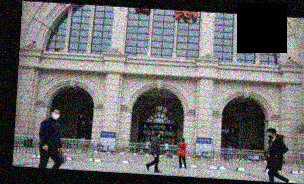with_mask: (50, 109, 60, 120), (266, 131, 273, 139)
